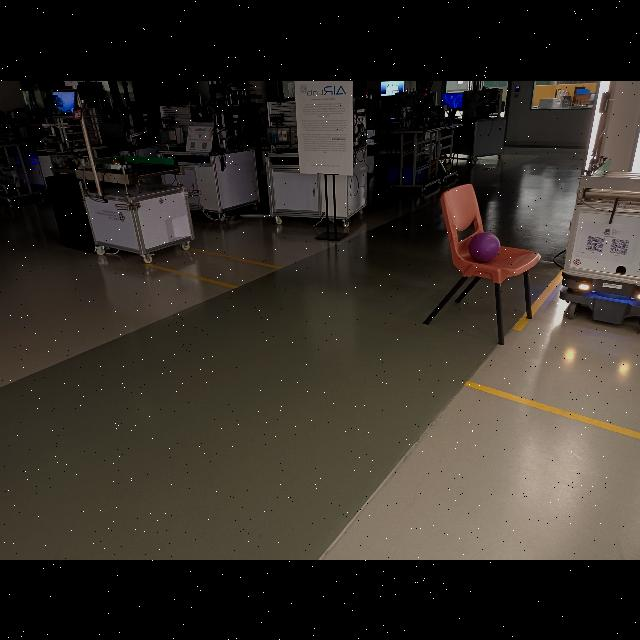P: (469, 232, 501, 260)
